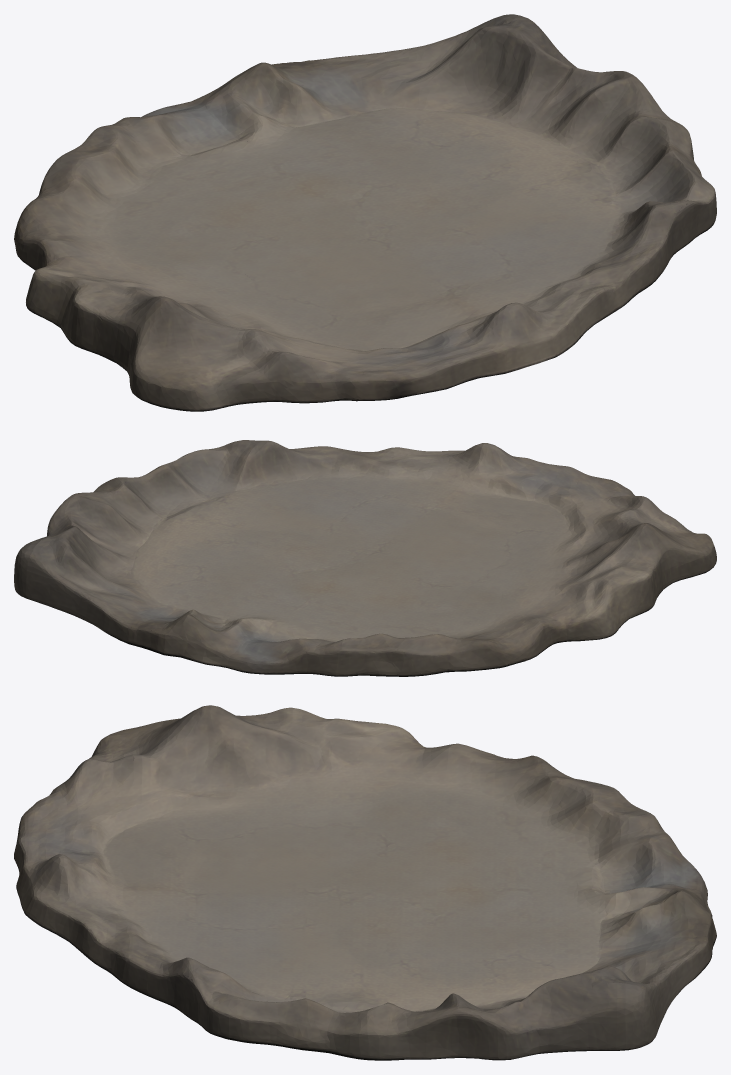
3 views of the same model, one above another, from view 1: azimuth 30°, elevation 25°; view 2: azimuth 150°, elevation 25°; view 3: azimuth 270°, elevation 25° (orthographic). The views are drawn at different scales.
Visible parts, largest first — view 1: world; view 2: world; view 3: world.
Boxes of the visible parts, x1,y1,x2,y2 form: world: (14,14,716,411); world: (14,440,716,676); world: (14,705,716,1060).
Bounding box in the file's own units: 0.9988 × 0.0938 × 0.9266.
Materials: 1 (1 with a texture image).
